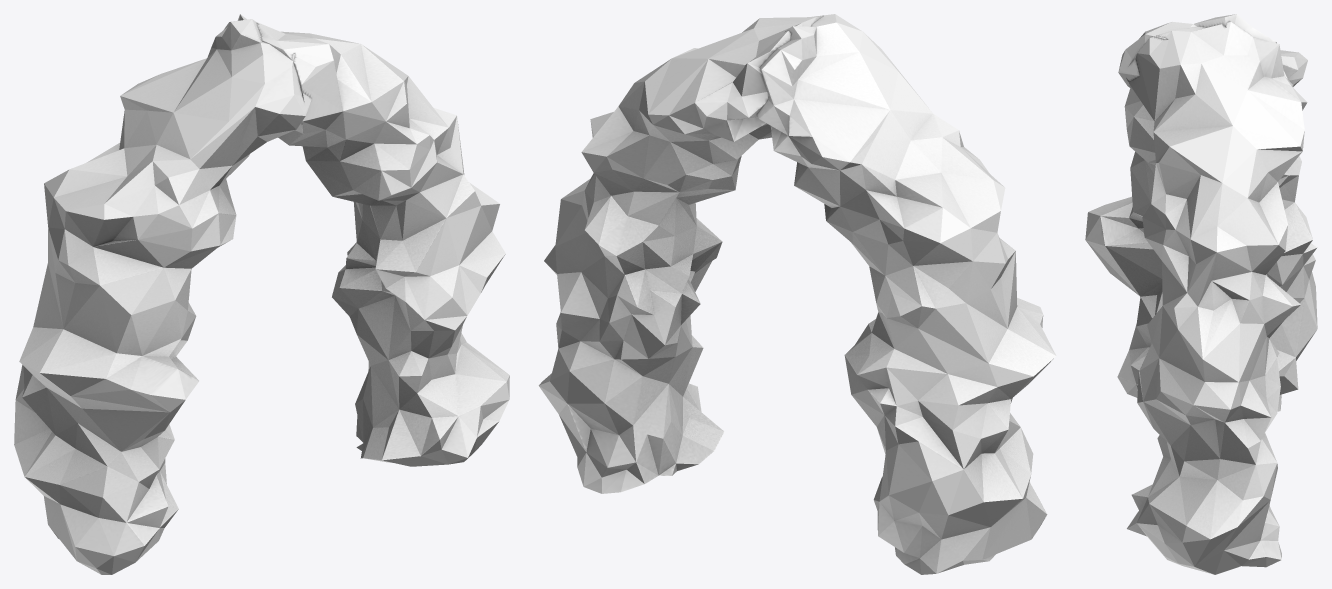
File: arch.obj
The picture shows the model from 3 angles, left to right: view 1: azimuth 30°, elevation 25°; view 2: azimuth 150°, elevation 25°; view 3: azimuth 270°, elevation 25°; orthographic projection. The views are drawn at different scales.
Parts seen in each view (by area): view 1: new_arch_BOLD_mirror_over_Cylinder.008; view 2: new_arch_BOLD_mirror_over_Cylinder.008; view 3: new_arch_BOLD_mirror_over_Cylinder.008.
Boxes of the visible parts, x1,y1,x2,y2 form: new_arch_BOLD_mirror_over_Cylinder.008: (14, 14, 509, 574); new_arch_BOLD_mirror_over_Cylinder.008: (538, 14, 1056, 574); new_arch_BOLD_mirror_over_Cylinder.008: (1085, 14, 1317, 574).
Size of the model in its own units: 11.63 by 11.11 by 4.94.
